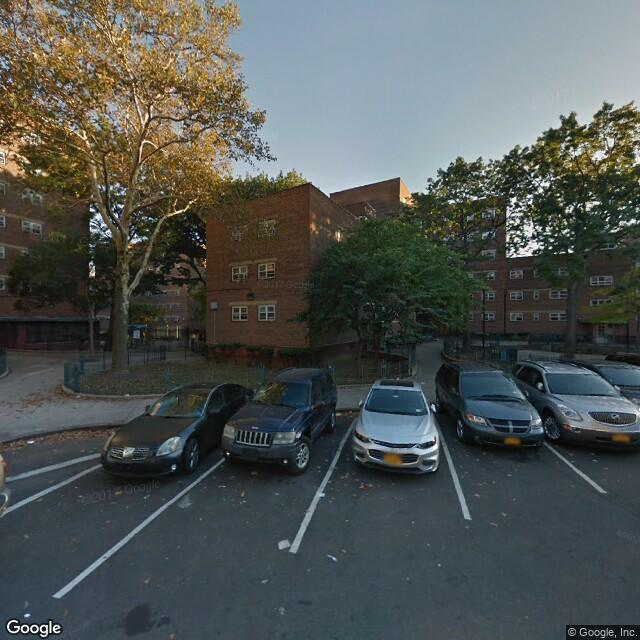litter: (276, 538, 292, 551), (26, 439, 35, 445), (23, 612, 31, 618), (317, 492, 325, 498), (123, 394, 131, 398)
